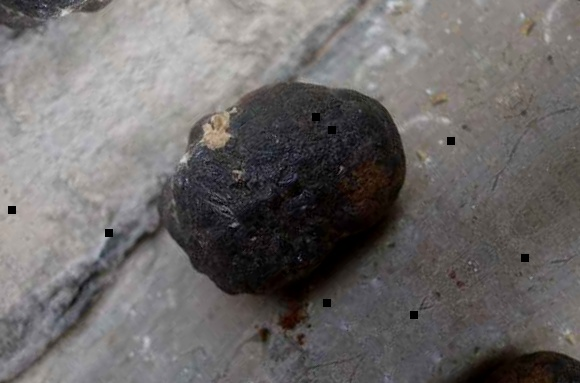halobolite: (120, 16, 450, 338)
